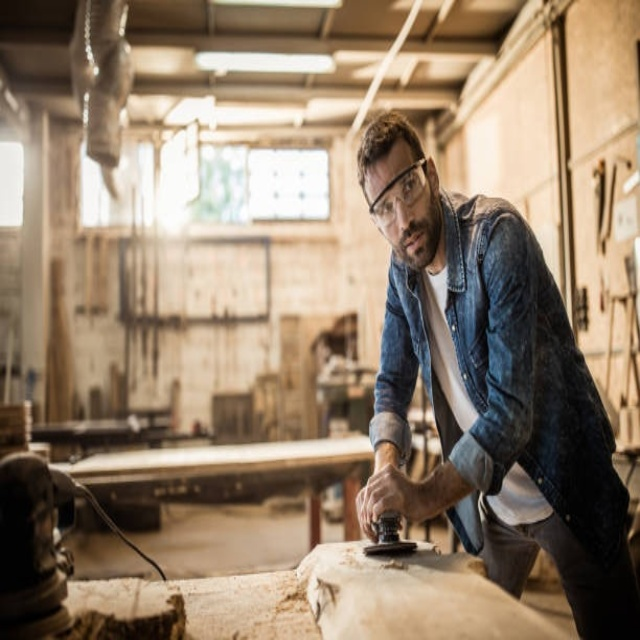Gafas: (367, 158, 426, 223)
Sin_guantes: (357, 462, 412, 535)
Sin_mascara: (397, 224, 428, 268)
